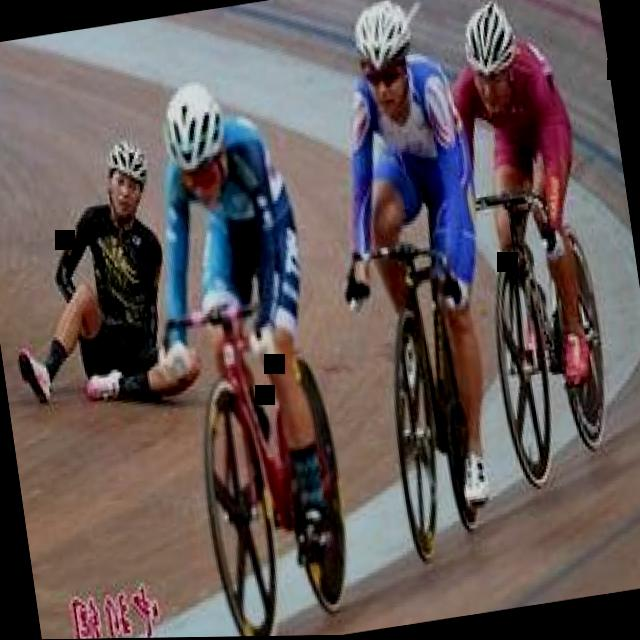Fall-Detected: (0, 116, 201, 425)
